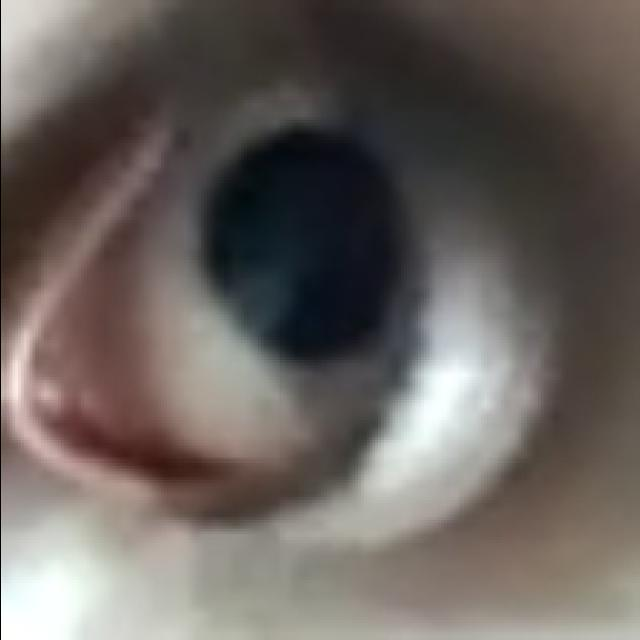conjunctiva_pallor: (26, 197, 222, 475)
